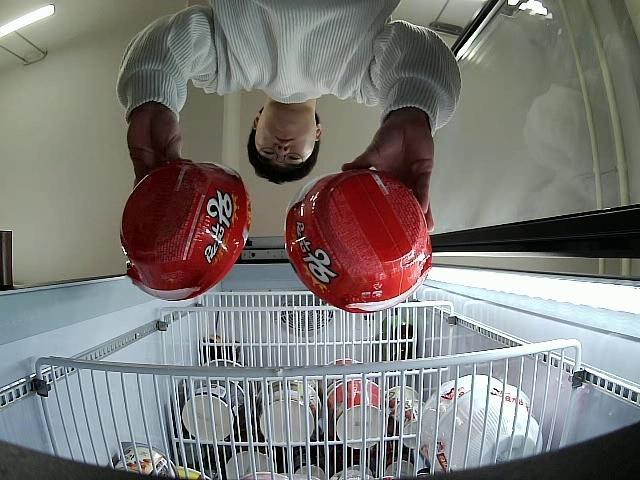10_wangTtukkeong: (284, 170, 432, 313), (120, 161, 250, 298)
